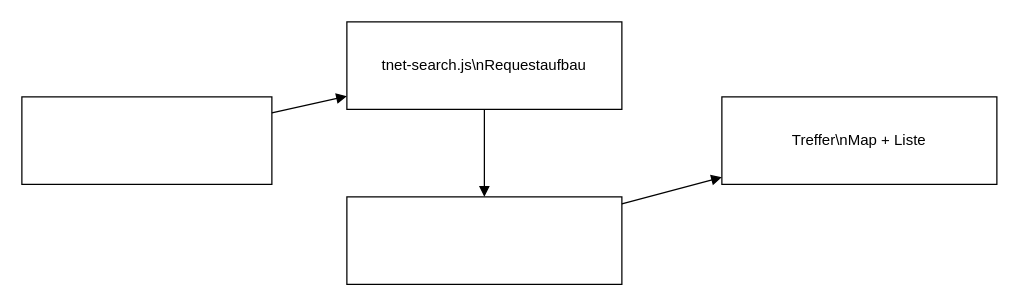
The diagram is 1019 pixels wide and 306 high, and some of its shapes have lost their labels. The centre of each missing label's shape, as x and y in pixels:
search-proxy.php\nBackend-Proxy: (x=484, y=240)
Suchfeld\nUser Input: (x=146, y=140)
